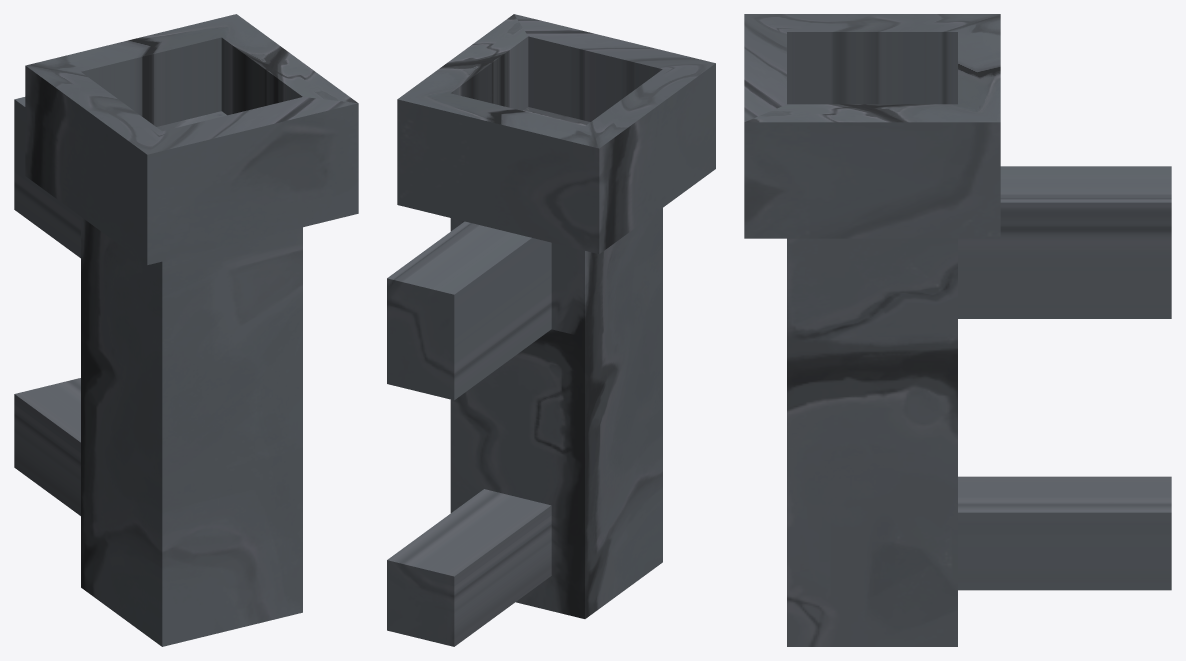
The model's file is Oborr.fbx.
3 renders of one model, left to right at view 1: azimuth 30°, elevation 25°; view 2: azimuth 150°, elevation 25°; view 3: azimuth 270°, elevation 25°, orthographic. The views are drawn at different scales.
Parts seen in each view (by area): view 1: Cube.005; view 2: Cube.005; view 3: Cube.005.
Boxes of the visible parts, box(x1,y1,x2,y2) form: Cube.005: box(14, 14, 358, 646); Cube.005: box(387, 14, 715, 646); Cube.005: box(744, 14, 1171, 646).
Bounding box in the file's own units: 60 × 140 × 100.
